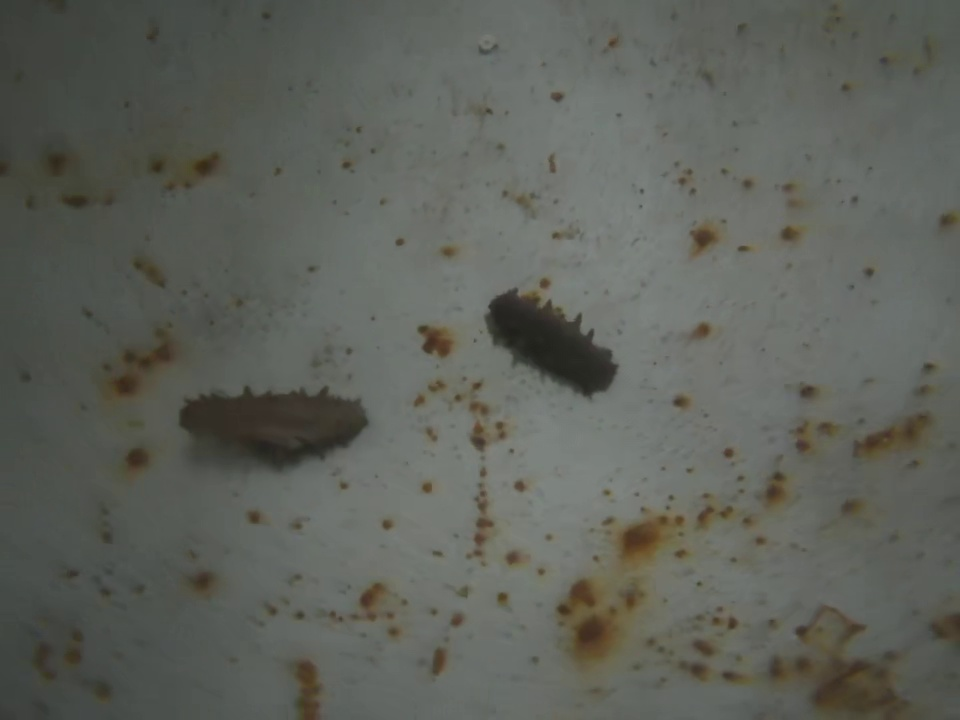seacucumber: (179, 385, 378, 469), (485, 286, 618, 398)
